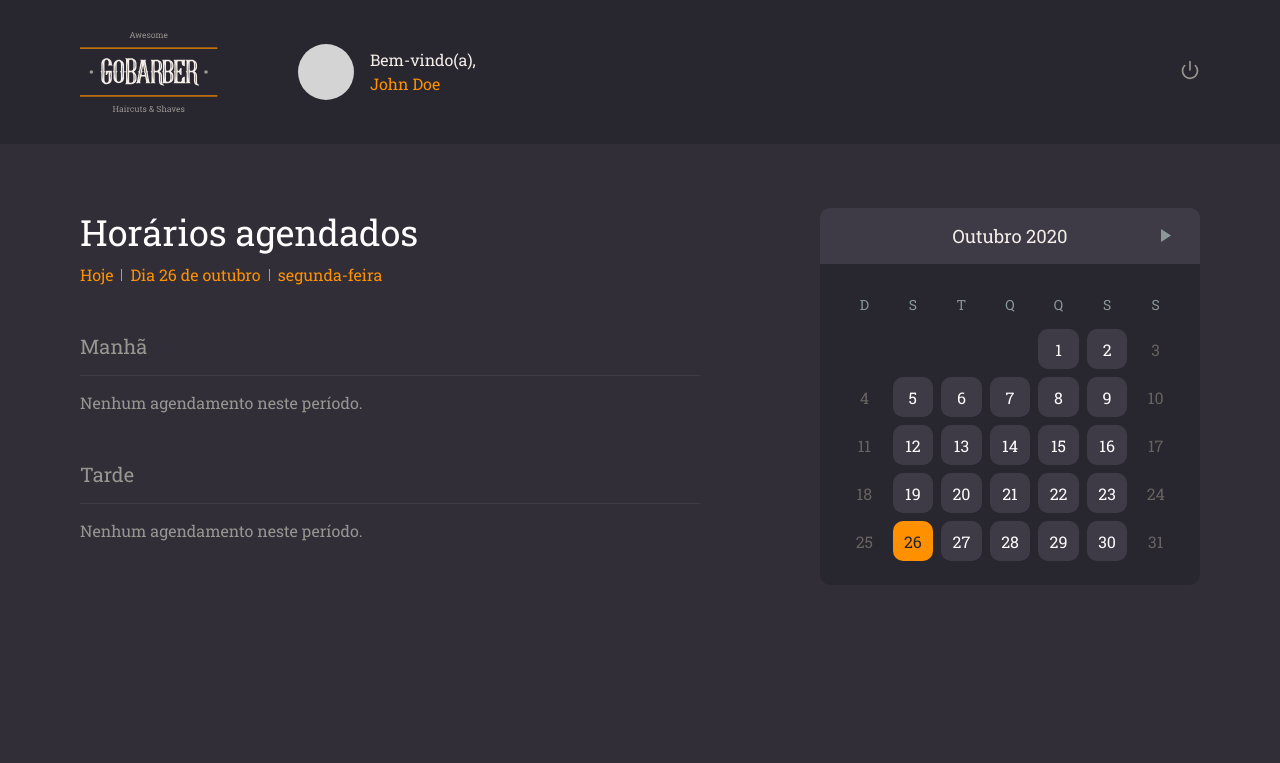
Test: Dashboard Page › should be able to change the month in the calendar
Click the button named "Next Month" at point(1166, 236), box [1156, 226, 1176, 246]
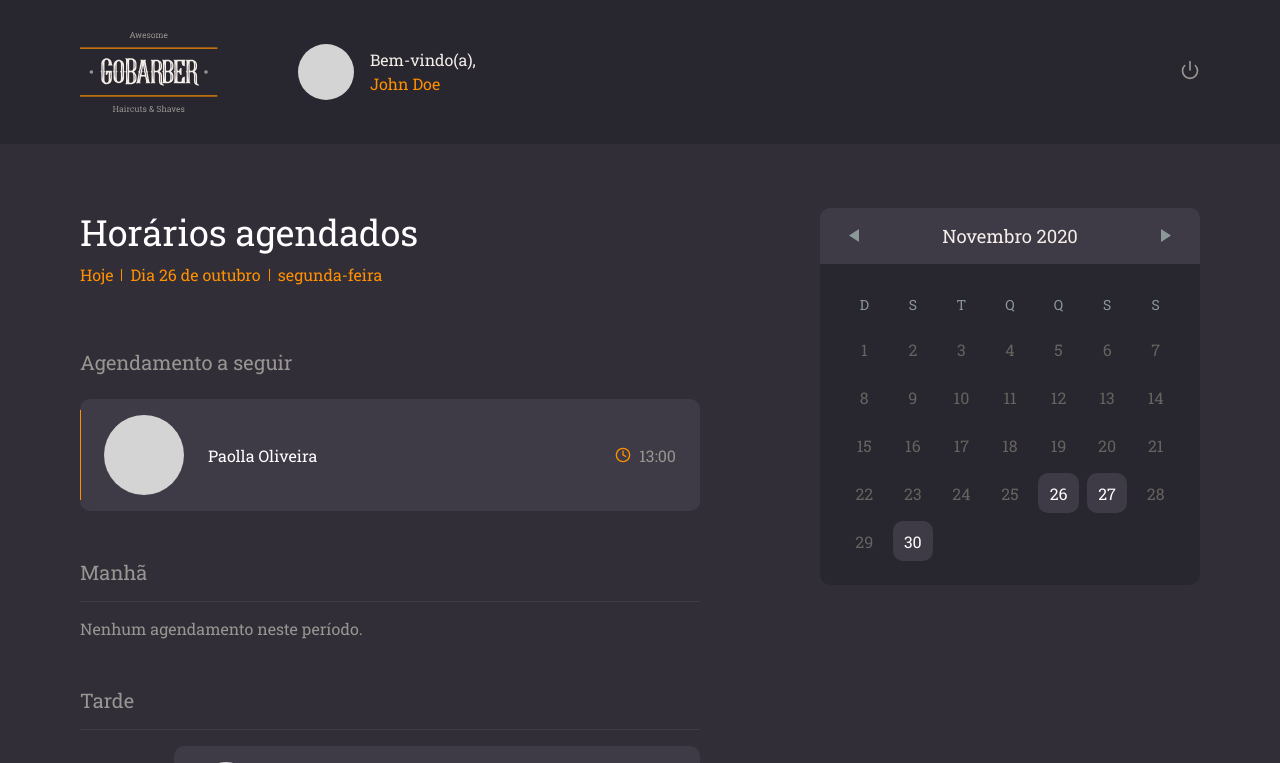
Now the text "Novembro 2020" is shown, box [942, 224, 1078, 248]
